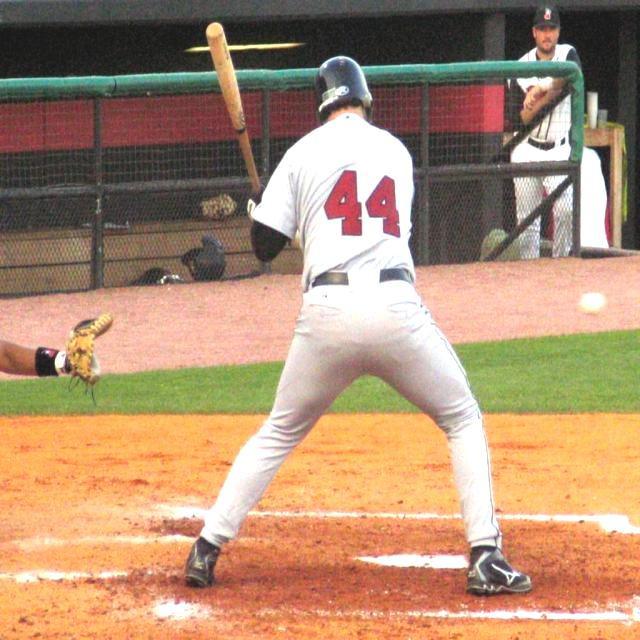ball: (580, 290, 608, 316)
bat: (202, 22, 264, 198)
